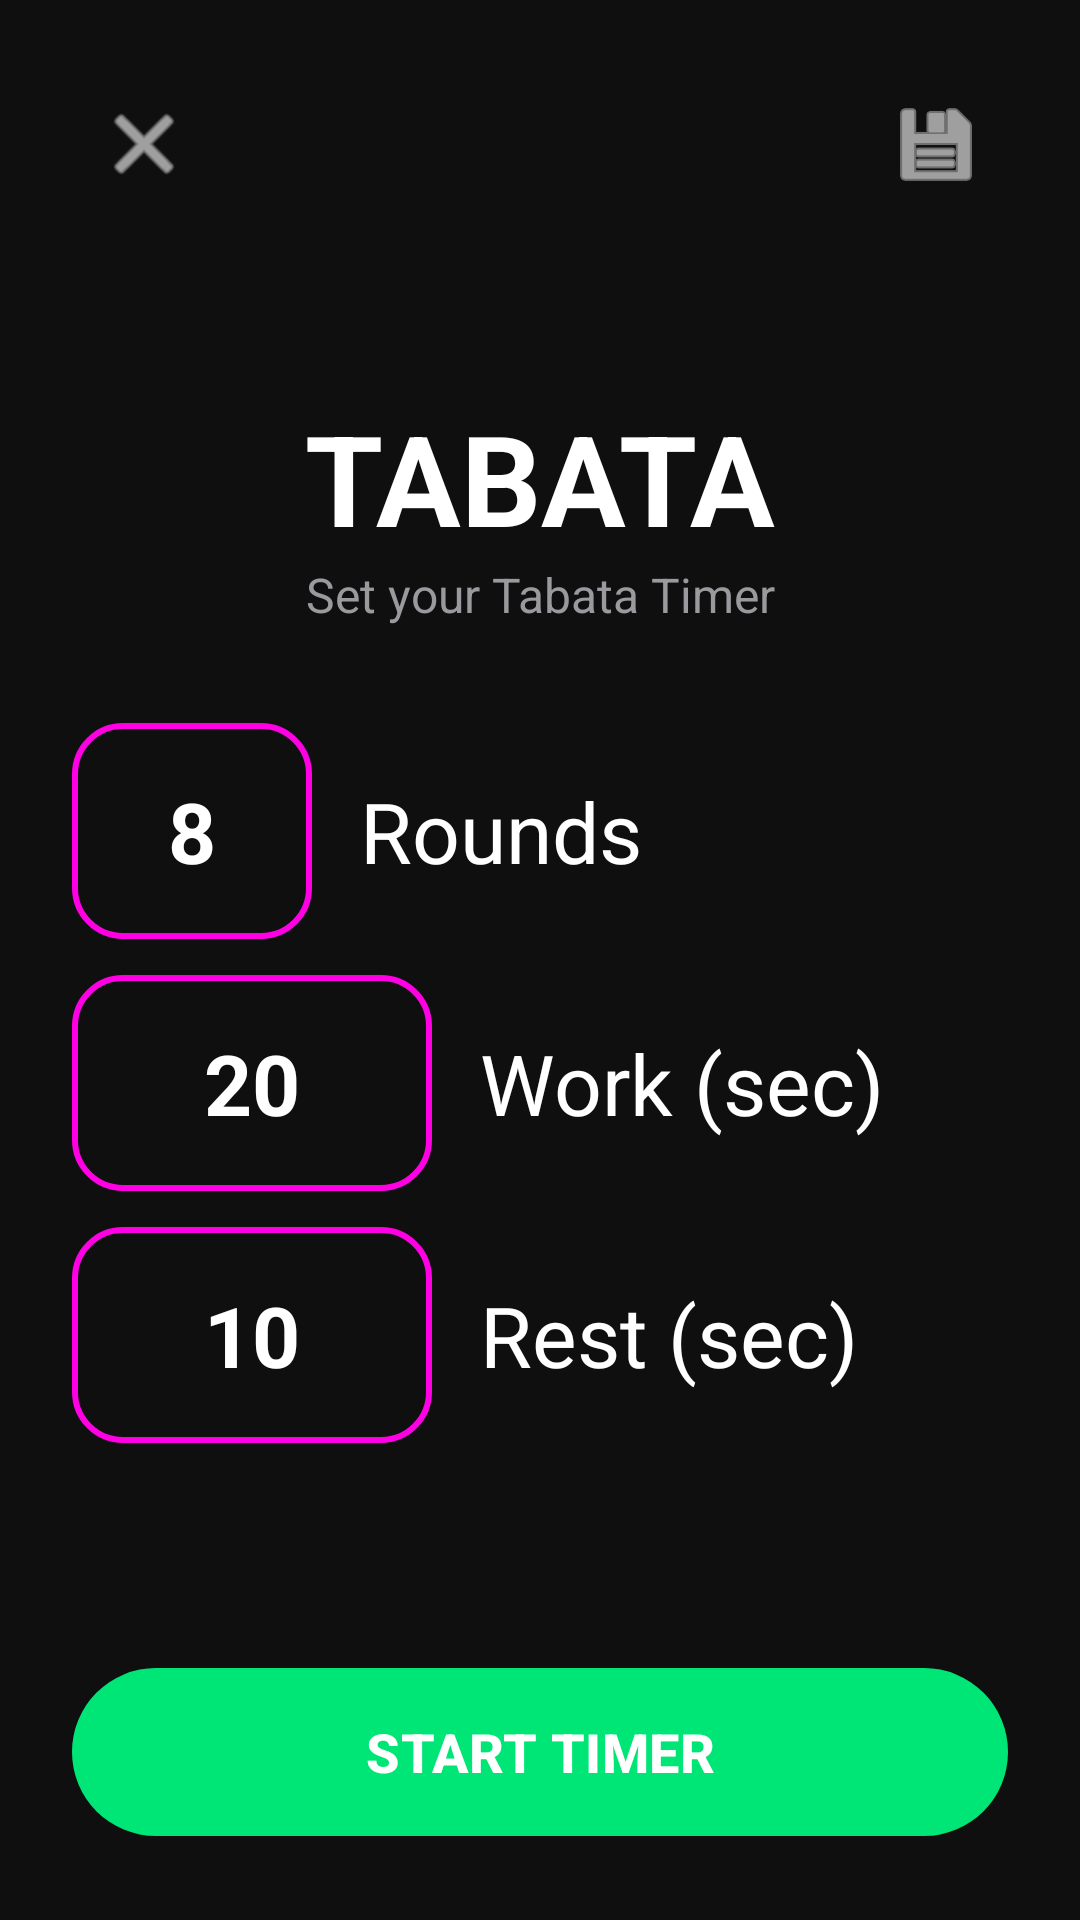

Named icons in this screenshot (1080px×1920px) and their centers, (x,y):
Save as preset: (936,144)
